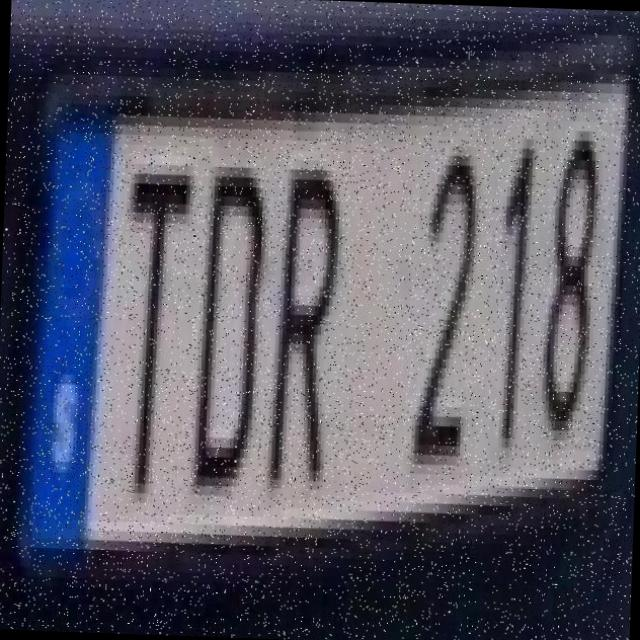LicensePlate: (13, 18, 636, 565)
